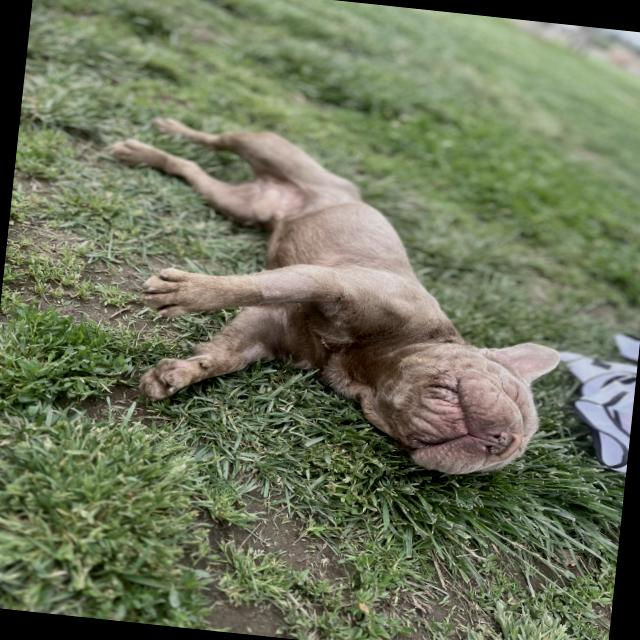french_bulldog_dog: (341, 310, 578, 490)
